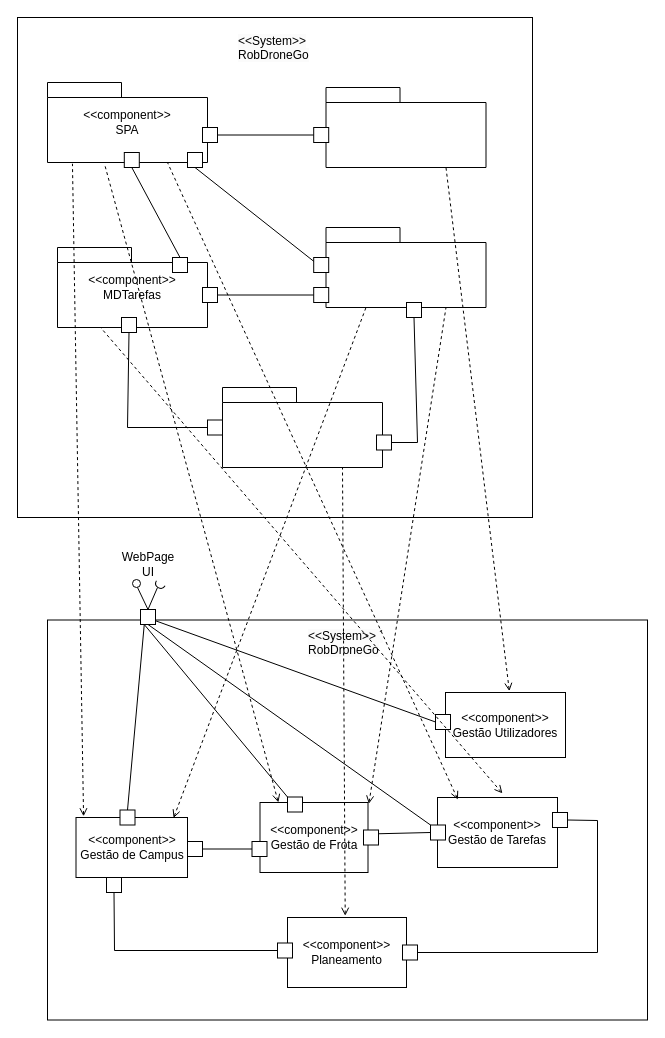
Image size: 665x1038. Some labels were removed from this diagram. Here are the shapes that lost their labels. From the top down, the centre of each, then its label:
At (x=405, y=127): "<<component>> auth".
At (x=405, y=267): "<<component>> MDRoboISEP".
At (x=302, y=427): "<<component>> Planeamento".
